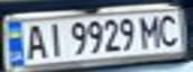2: (103, 16, 121, 53)
9: (84, 17, 106, 54), (66, 18, 87, 56), (118, 15, 139, 52)
A: (21, 21, 48, 61)
C: (154, 11, 184, 47)
I: (42, 20, 66, 58)
M: (136, 11, 166, 48)
